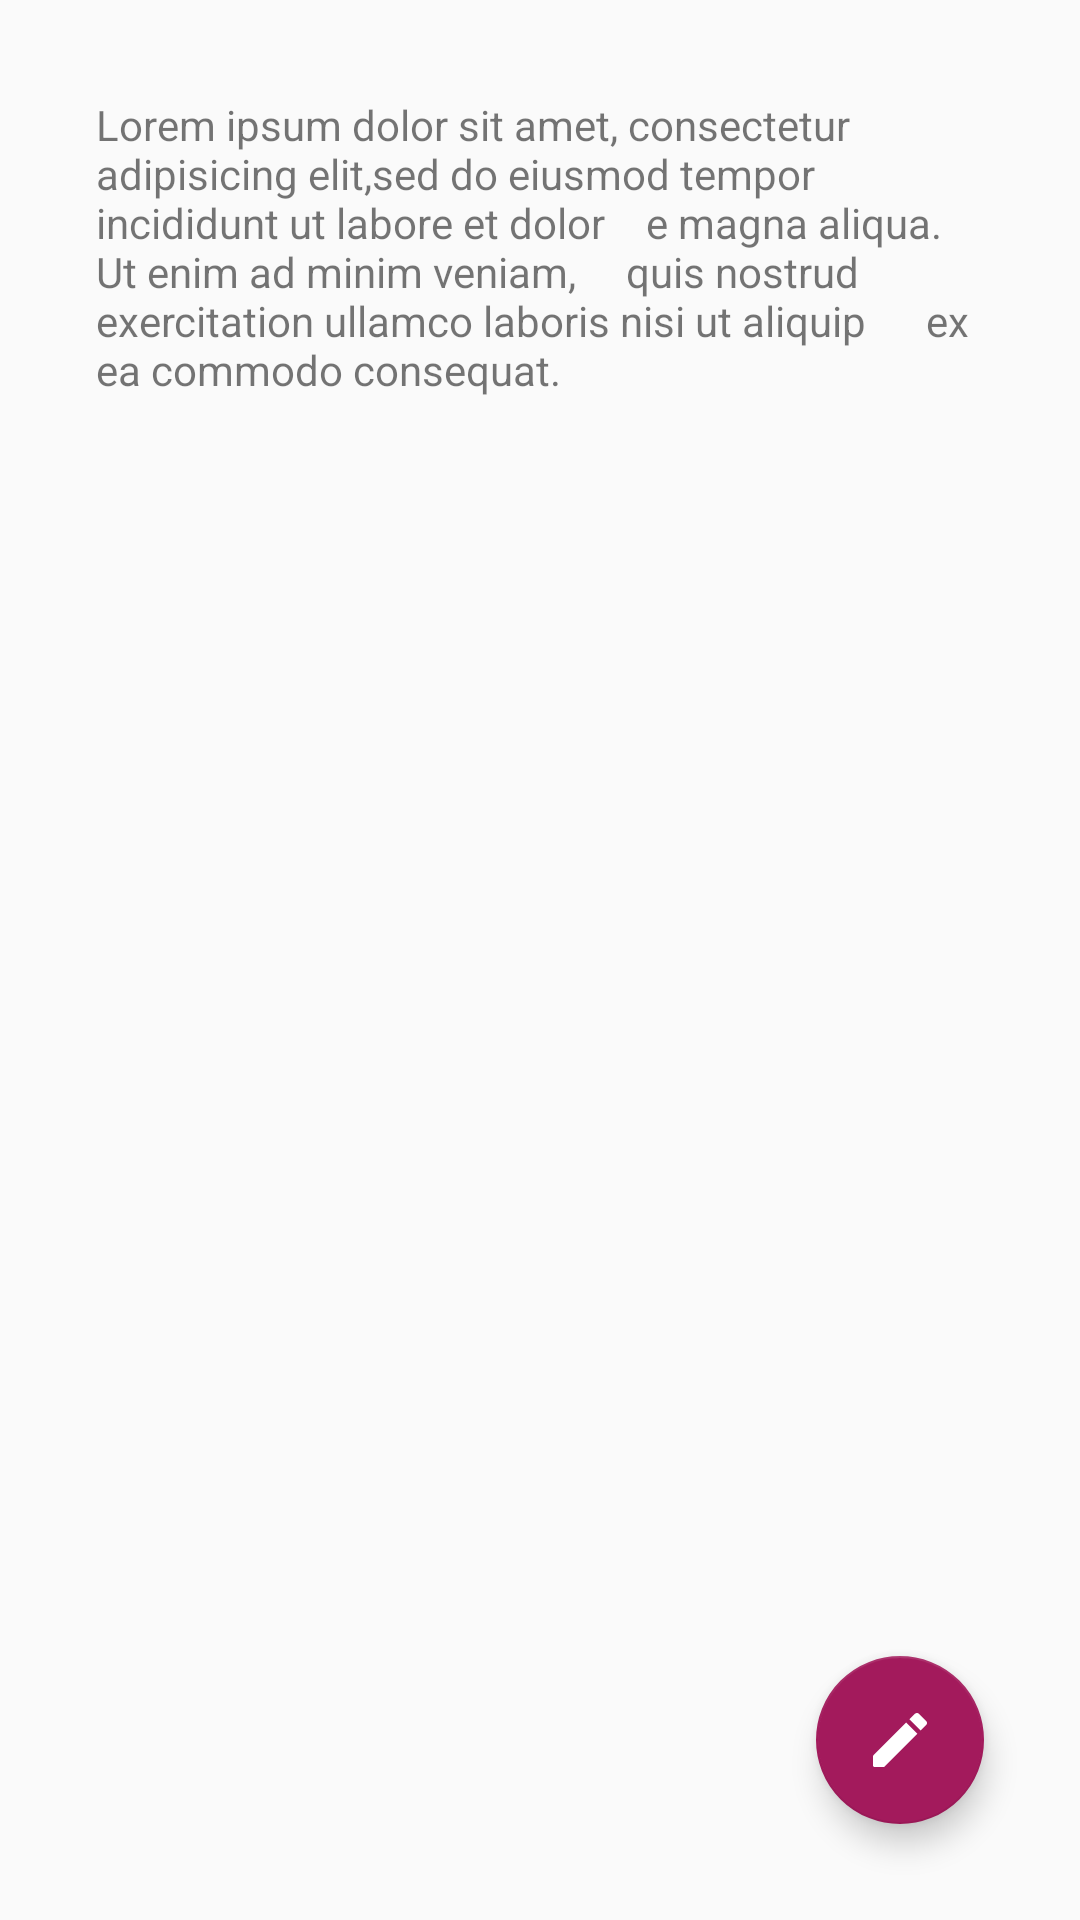

Named icons in this screenshot (1080x1920) and their bounding boxes, (left=x1, top=y1, right=x2, bottom=y2):
create: (left=816, top=1656, right=984, bottom=1824)
